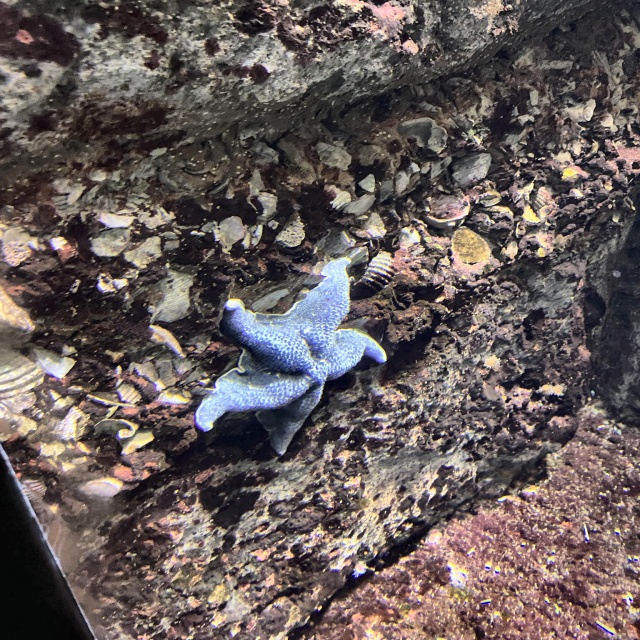starfish: (195, 256, 388, 457)
